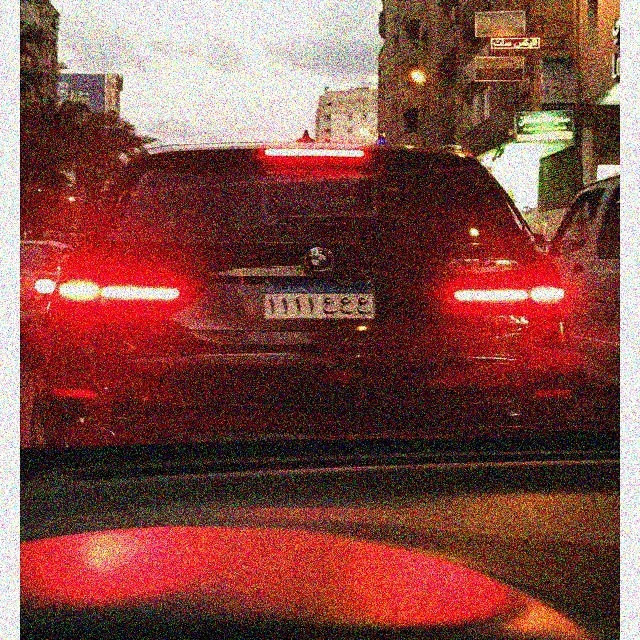License Plate: (260, 275, 379, 323)
